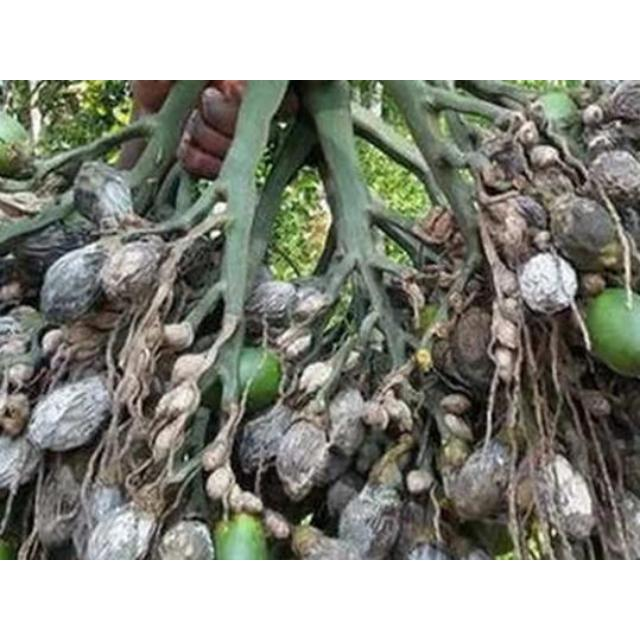damaged: (27, 377, 112, 453), (39, 245, 109, 323), (534, 454, 596, 542), (444, 442, 512, 522), (32, 460, 90, 552), (336, 482, 402, 556), (272, 418, 332, 499), (552, 198, 618, 270), (102, 238, 164, 308), (74, 160, 136, 230), (480, 192, 540, 264), (238, 408, 294, 476), (586, 148, 640, 208), (176, 236, 224, 296), (327, 388, 369, 456), (395, 499, 439, 557), (532, 153, 580, 204), (248, 281, 300, 327), (484, 136, 530, 187), (158, 519, 215, 559), (588, 120, 636, 160), (289, 286, 331, 328), (323, 477, 361, 521), (155, 383, 197, 422), (436, 434, 474, 476), (296, 362, 336, 398), (170, 352, 212, 386), (512, 194, 548, 230), (616, 442, 640, 492), (153, 420, 185, 456), (124, 344, 152, 384), (492, 262, 520, 300), (381, 395, 412, 429), (430, 335, 456, 375), (116, 372, 144, 408), (204, 468, 233, 502), (442, 413, 474, 441), (282, 334, 314, 362), (494, 313, 520, 347), (201, 442, 229, 472), (529, 144, 561, 170), (162, 322, 194, 348), (360, 401, 388, 429), (7, 363, 36, 389), (40, 329, 66, 357), (405, 470, 435, 494), (440, 394, 472, 416), (515, 120, 539, 148), (498, 296, 522, 322), (582, 104, 604, 126)
